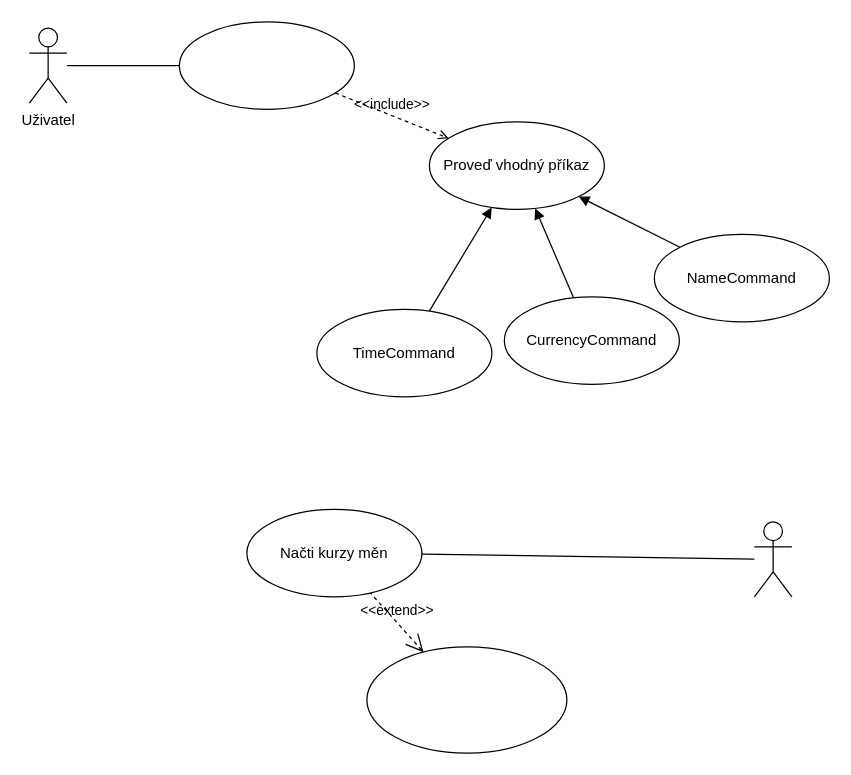
Image size: 851x775. Some labels were removed from this diagram. The shapes that lost their labels are listed below. From the top down, each one's centre as x and y in pixels, then its label:
At point 266,65: "Zeptá se na otázku".
At point 772,559: "ČNB API".
At point 466,699: "Načti starší kurzy měn z disku".
